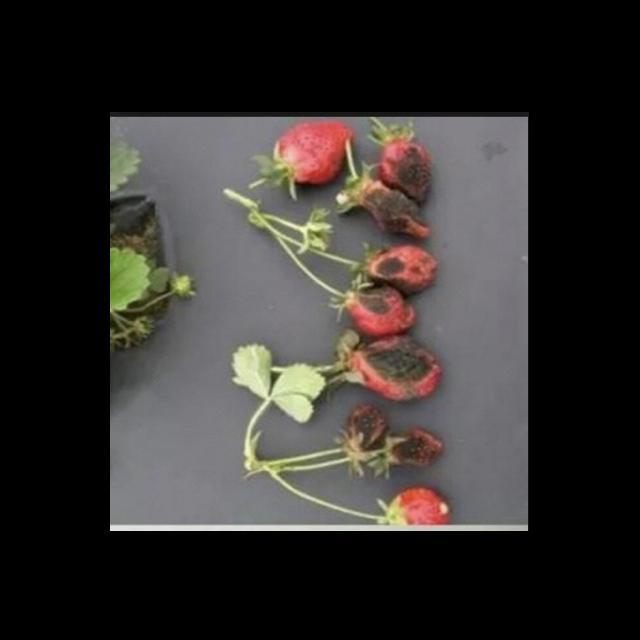Anthracnose Fruit Rot: (358, 337, 436, 401), (363, 180, 429, 235), (372, 242, 437, 290), (382, 143, 432, 202), (343, 401, 391, 450), (389, 426, 444, 467), (359, 286, 401, 317)
